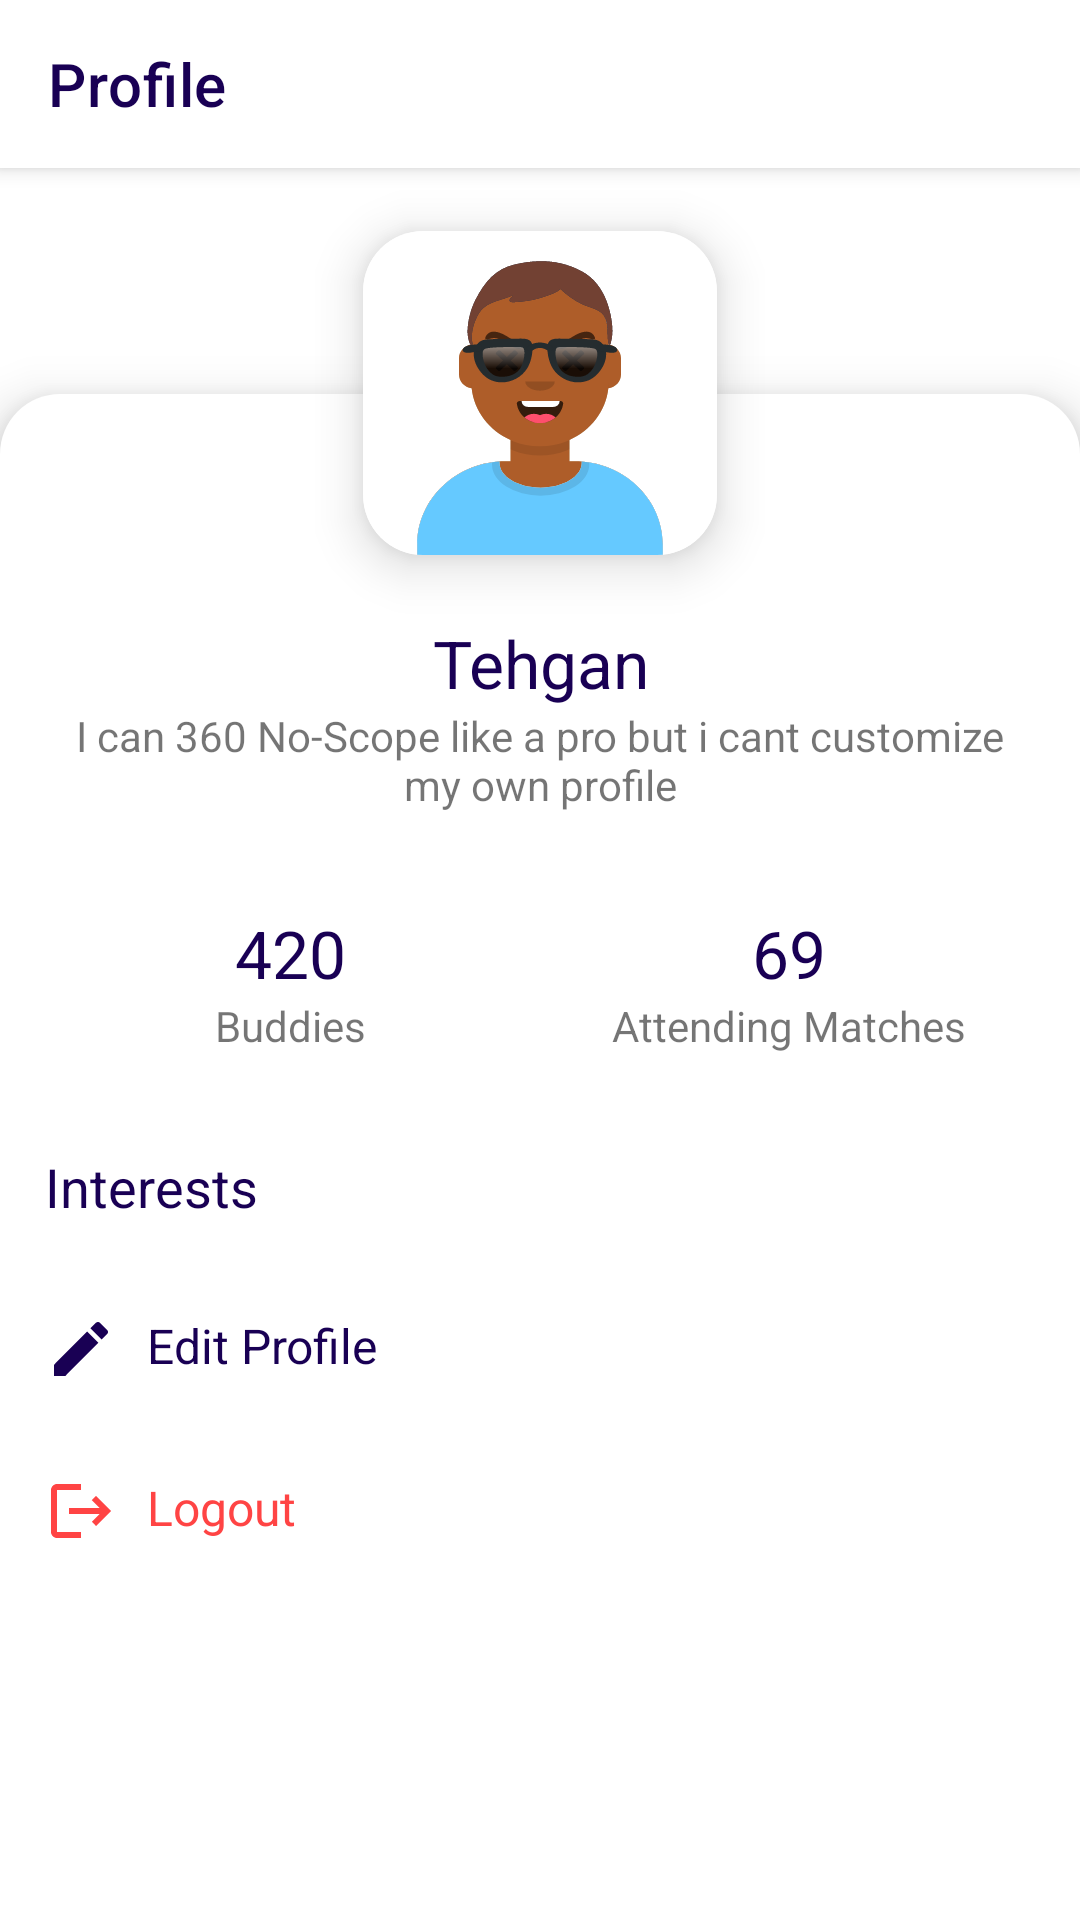

Named icons in this screenshot (1080×1920) and their bounding boxes, (x1, y1, x2, y2):
Avatar: (417, 261, 663, 555)
